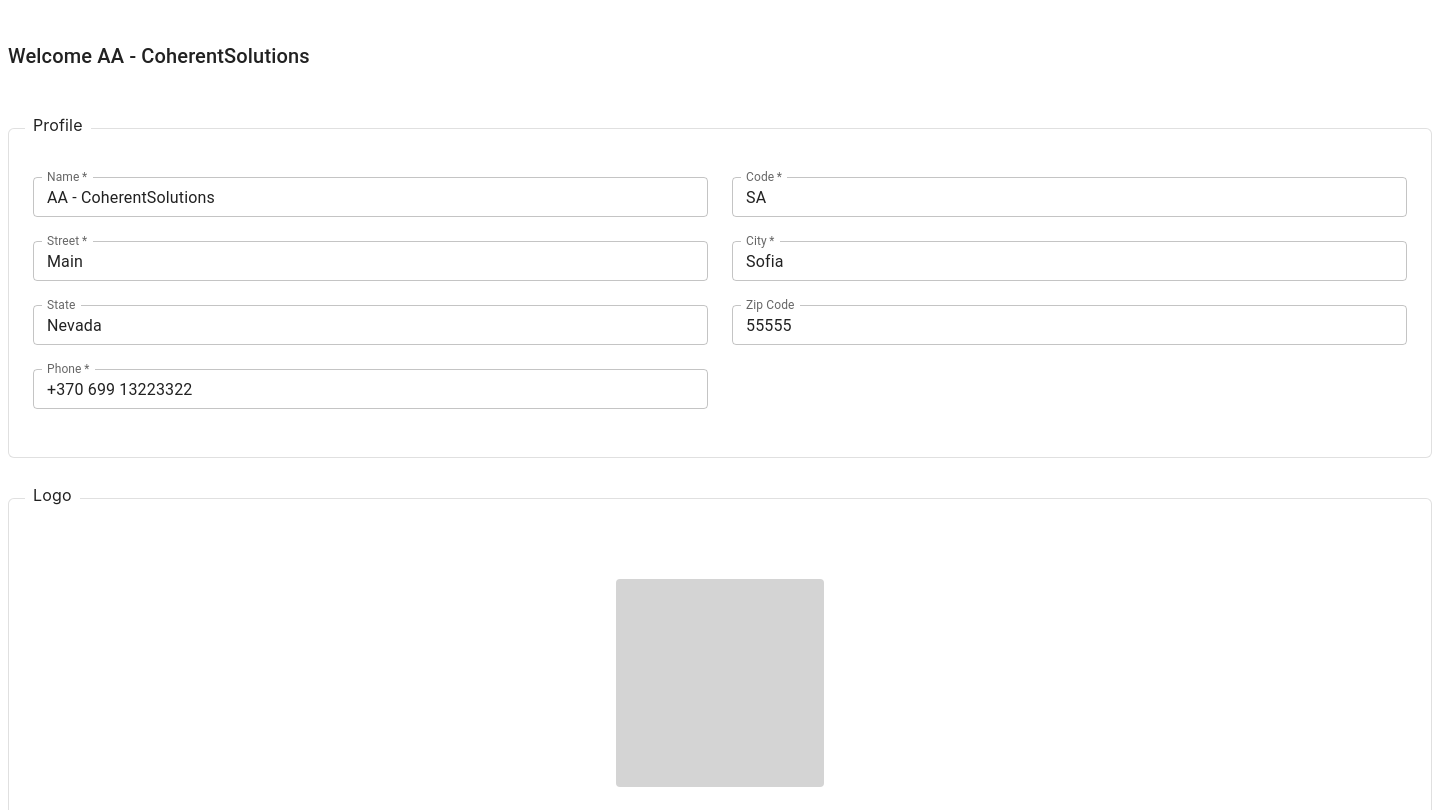
EmployerProfile: validation and error messages › Should show error message if invalid name length of 4 symbols
Replace the text in the field labelled "Name *" with "ddsf": (370, 197) [33,177,708,217]
(page scrolled)
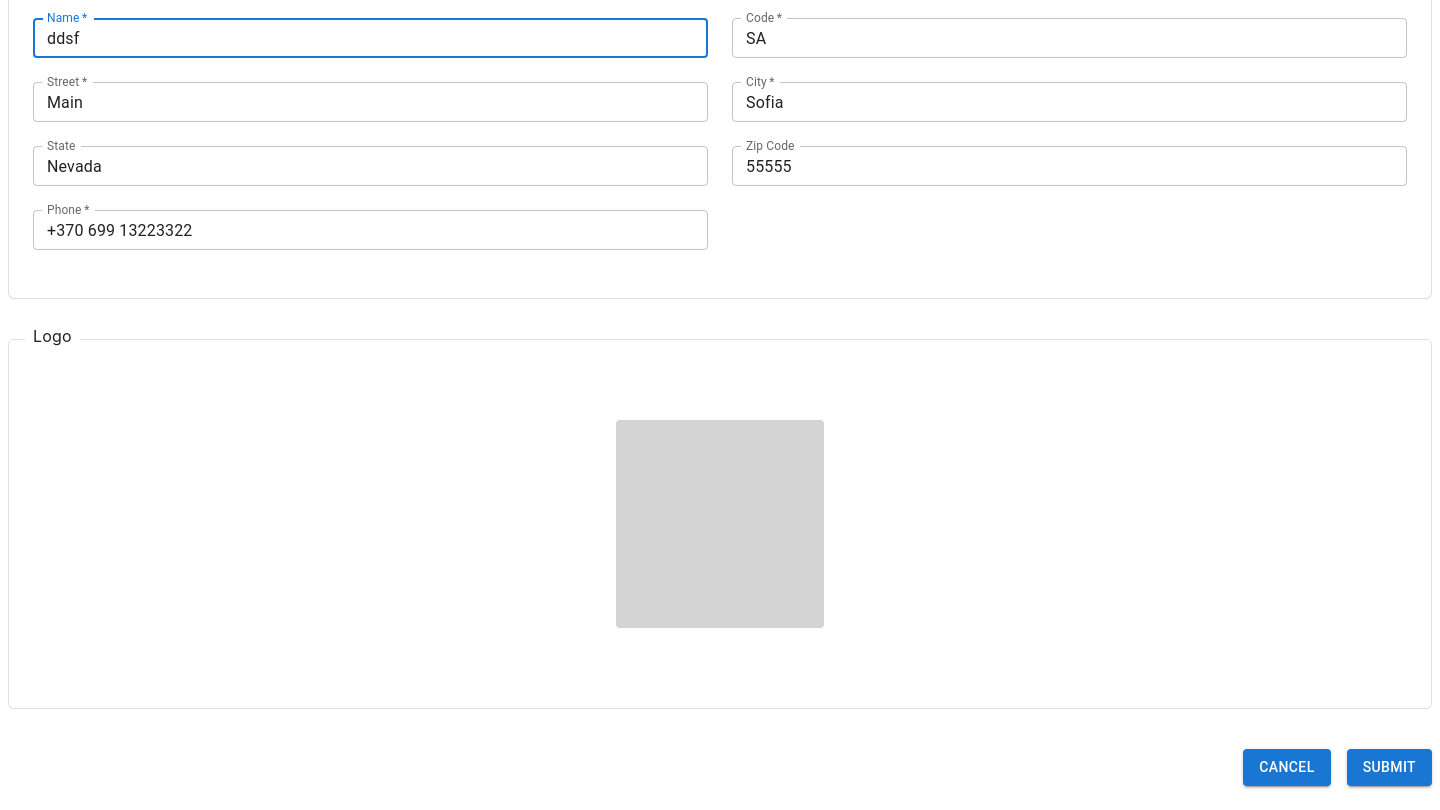
Click the button "Submit": (1389, 767) [1347,749,1432,786]
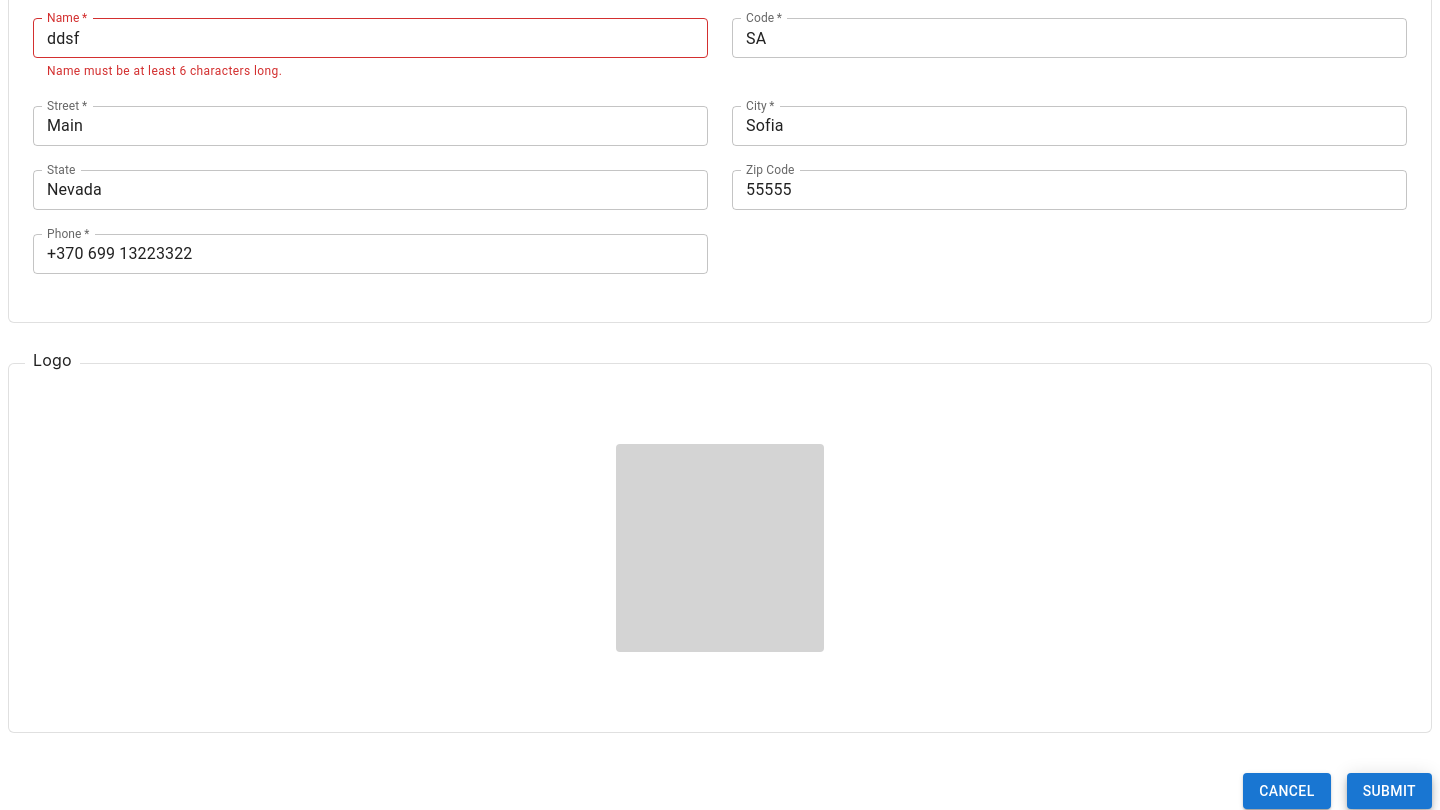
Now the text "Name must be at least 6 characters long." is shown, box [47,64,282,78]
